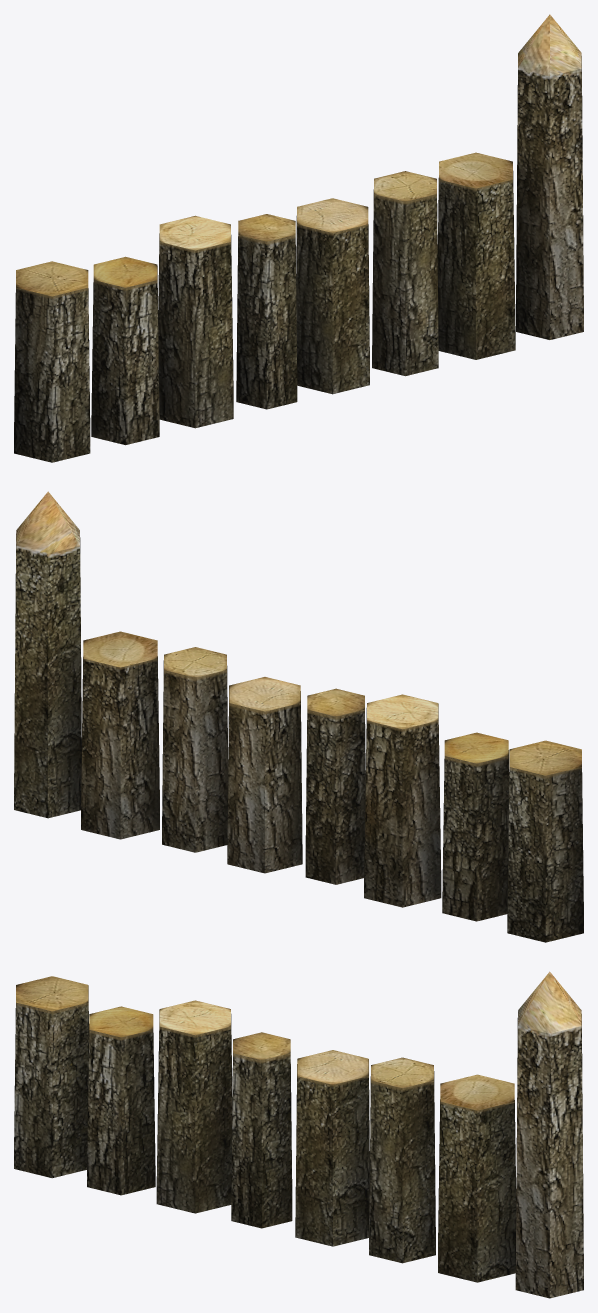
File: Wooden_Wall_Fence_01_low_left.FBX
3 renders of one model, top to bottom at view 1: azimuth 30°, elevation 25°; view 2: azimuth 150°, elevation 25°; view 3: azimuth 330°, elevation 25°, orthographic.
Parts seen in each view (by area): view 1: Wooden_Wall_Fence_01_low_left; view 2: Wooden_Wall_Fence_01_low_left; view 3: Wooden_Wall_Fence_01_low_left.
Part boxes in pixels (<box>): Wooden_Wall_Fence_01_low_left: <box>14,14,583,462</box>; Wooden_Wall_Fence_01_low_left: <box>14,491,583,942</box>; Wooden_Wall_Fence_01_low_left: <box>14,971,583,1298</box>.
Size of the model in its own units: 22.15 by 11.51 by 2.66.
Materials: 1 (1 with a texture image).
